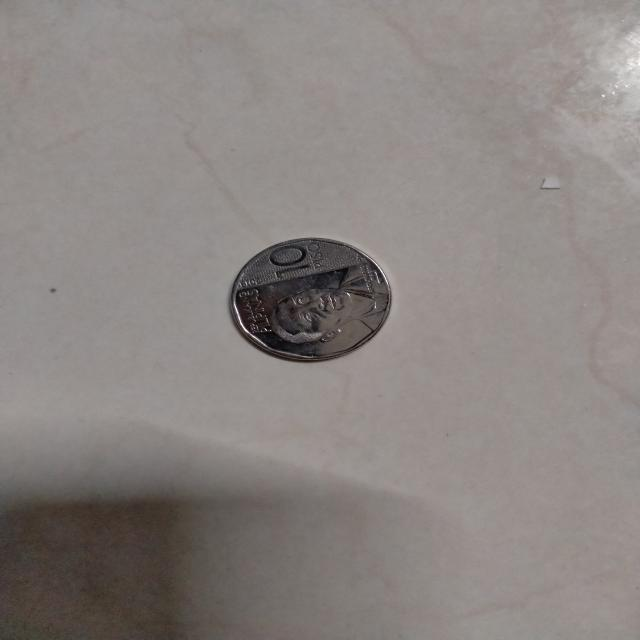10_New_Front: (242, 237, 380, 349)
